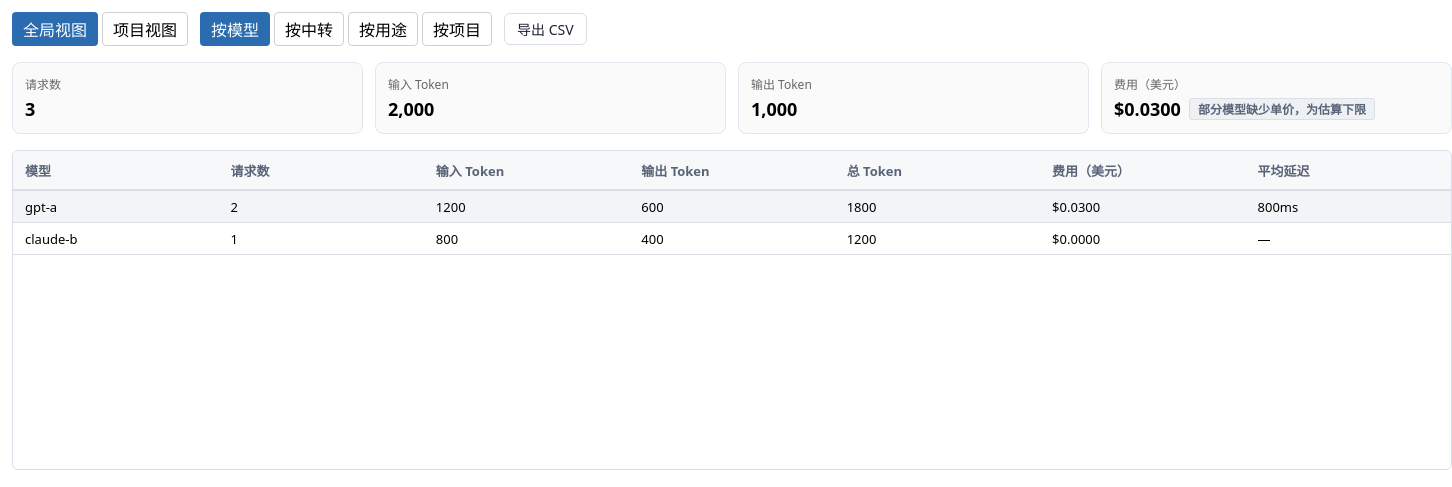
Test: UsageDashboard › 切换到项目视图只显示该项目的记录
The width and height of the screenshot is (1452, 487).
Check: the text "gpt-a" is shown, box x1=25 y1=198 x2=57 y2=216
Click the tab "项目视图".
click(145, 29)  # box x1=102 y1=12 x2=188 y2=46
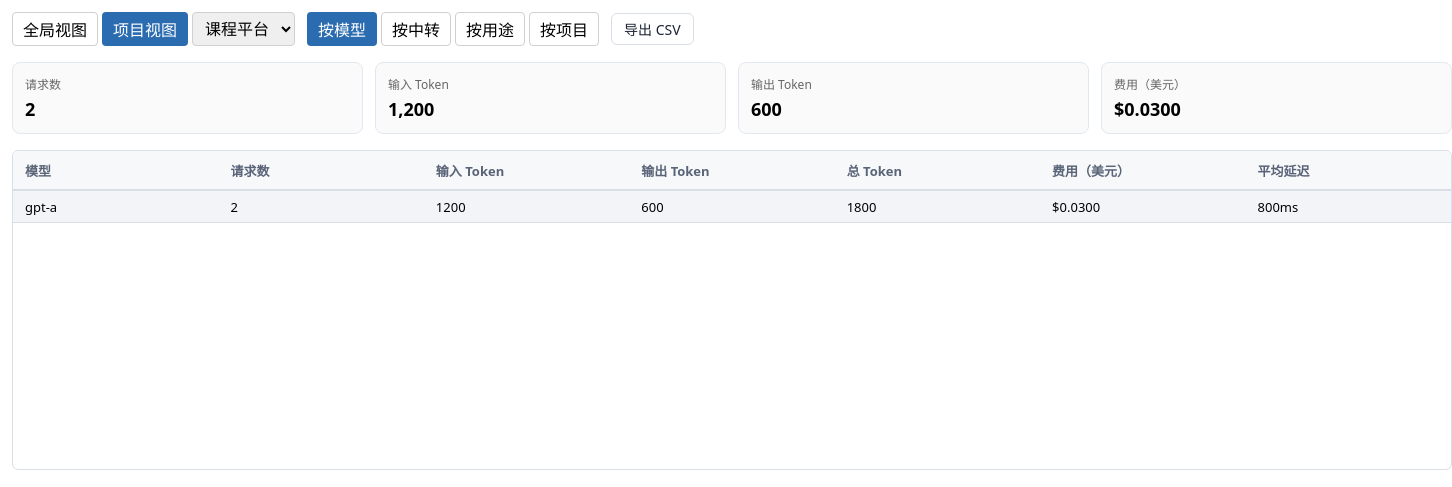
Check: the element with class "ec-usage__summary" shows "2", box x1=25 y1=97 x2=35 y2=121
Check: the dropdown named "选择项目" is shown, box x1=192 y1=12 x2=295 y2=46
Check: the text "claude-b" is gone
